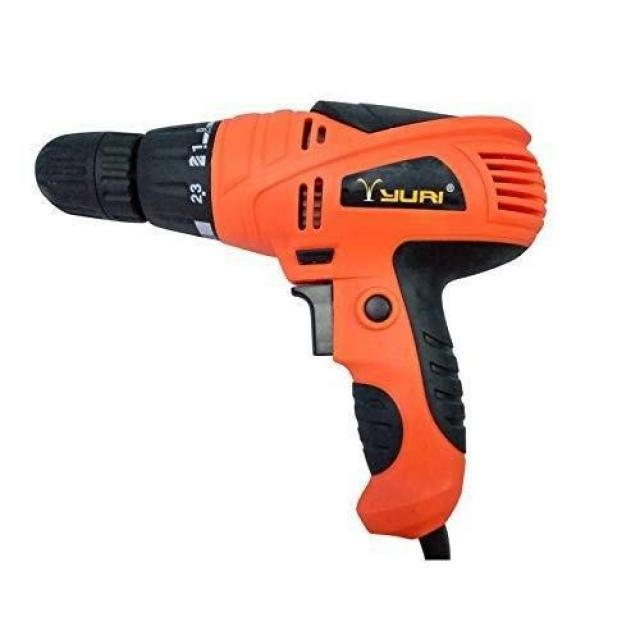drill: (32, 98, 554, 564)
